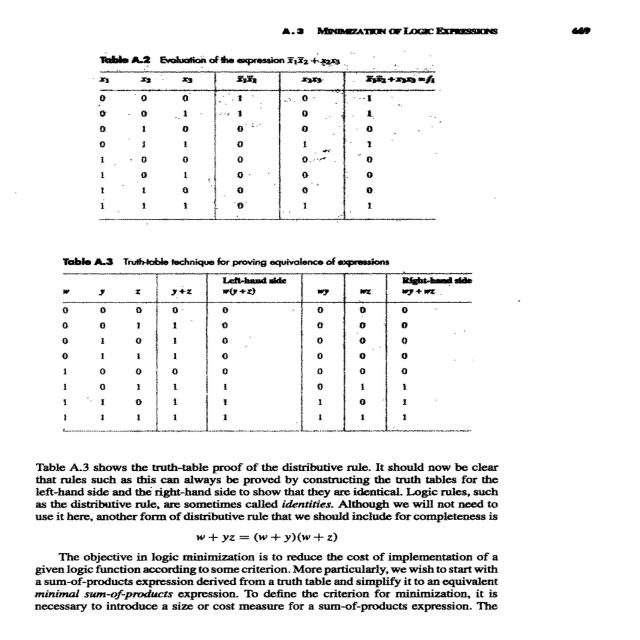diagram: (32, 38, 483, 450)
